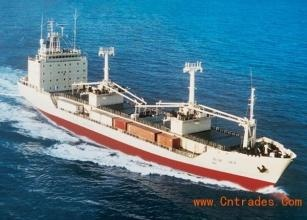Cargoship: (15, 20, 298, 188)
